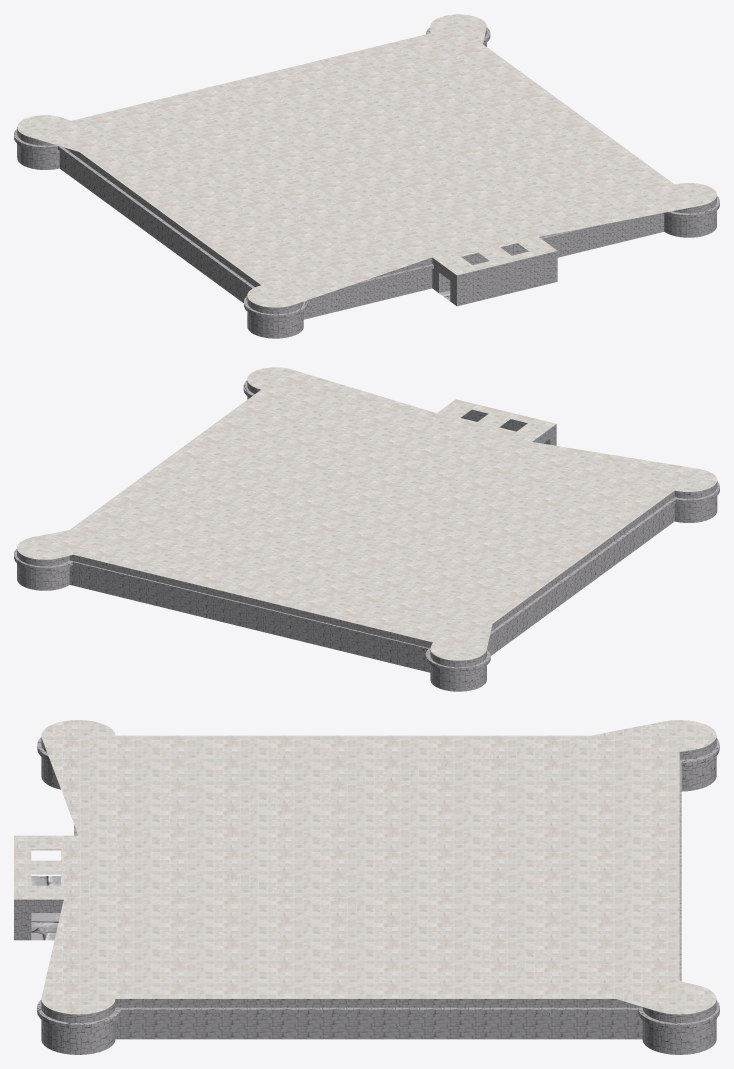
Rendered from Palace Base.fbx.
The picture shows the model from 3 angles, top to bottom: view 1: azimuth 30°, elevation 25°; view 2: azimuth 150°, elevation 25°; view 3: azimuth 270°, elevation 25°; orthographic projection. The views are drawn at different scales.
Visible parts, largest first — view 1: Circle.003; view 2: Circle.003; view 3: Circle.003.
Part boxes in pixels (<box>): Circle.003: <box>14,14,719,338</box>; Circle.003: <box>14,367,719,691</box>; Circle.003: <box>14,720,719,1054</box>.
Bounding box in the file's own units: 9507 × 600 × 9502.
2 materials, 2 textured.
